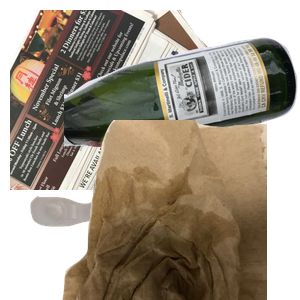glass: (64, 35, 300, 181)
paper: (10, 10, 250, 190)
plastic: (28, 176, 253, 300)
trash: (60, 120, 300, 300)
